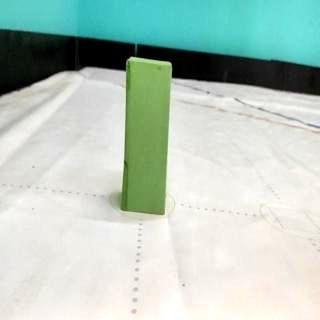greenbox: (120, 53, 174, 216)
